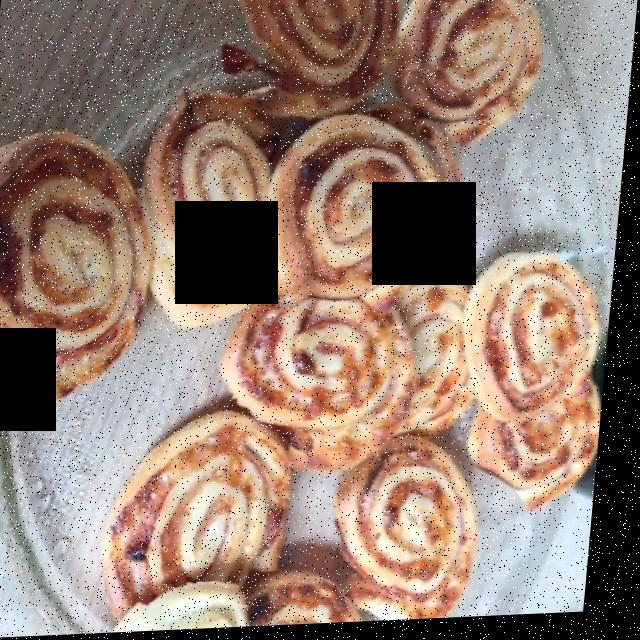savoury-puff-pastry: (2, 14, 604, 625)
